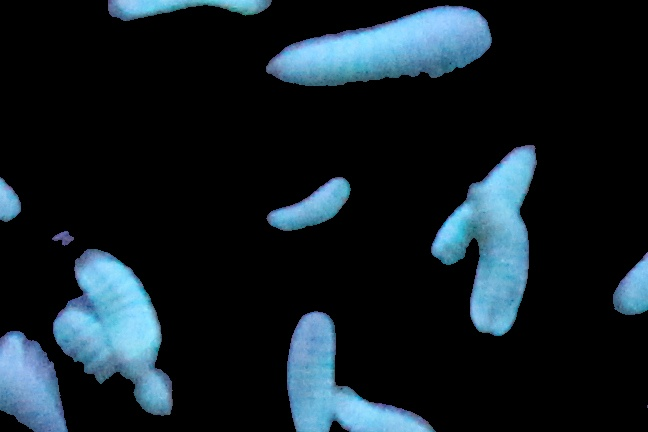larvae: (282, 12, 502, 92), (432, 149, 546, 258), (455, 195, 529, 349), (72, 249, 152, 375), (1, 328, 66, 431), (289, 313, 342, 432), (55, 306, 123, 384), (102, 1, 270, 32), (334, 376, 425, 432), (258, 178, 355, 226)
